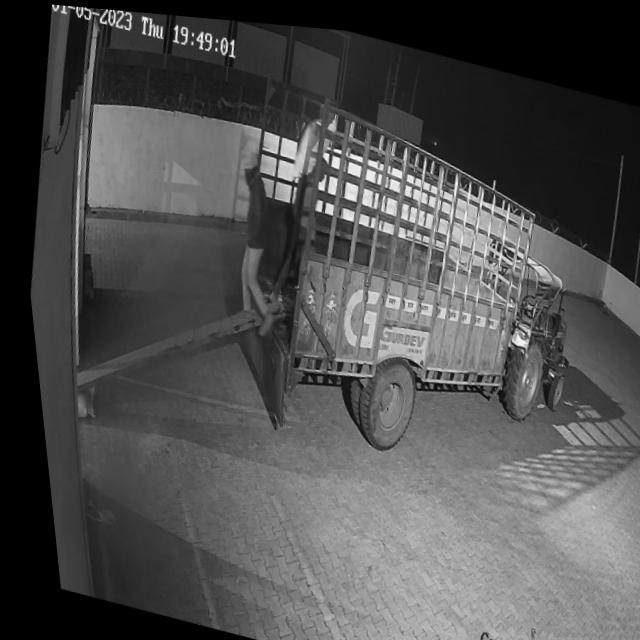sack: (281, 103, 338, 183)
